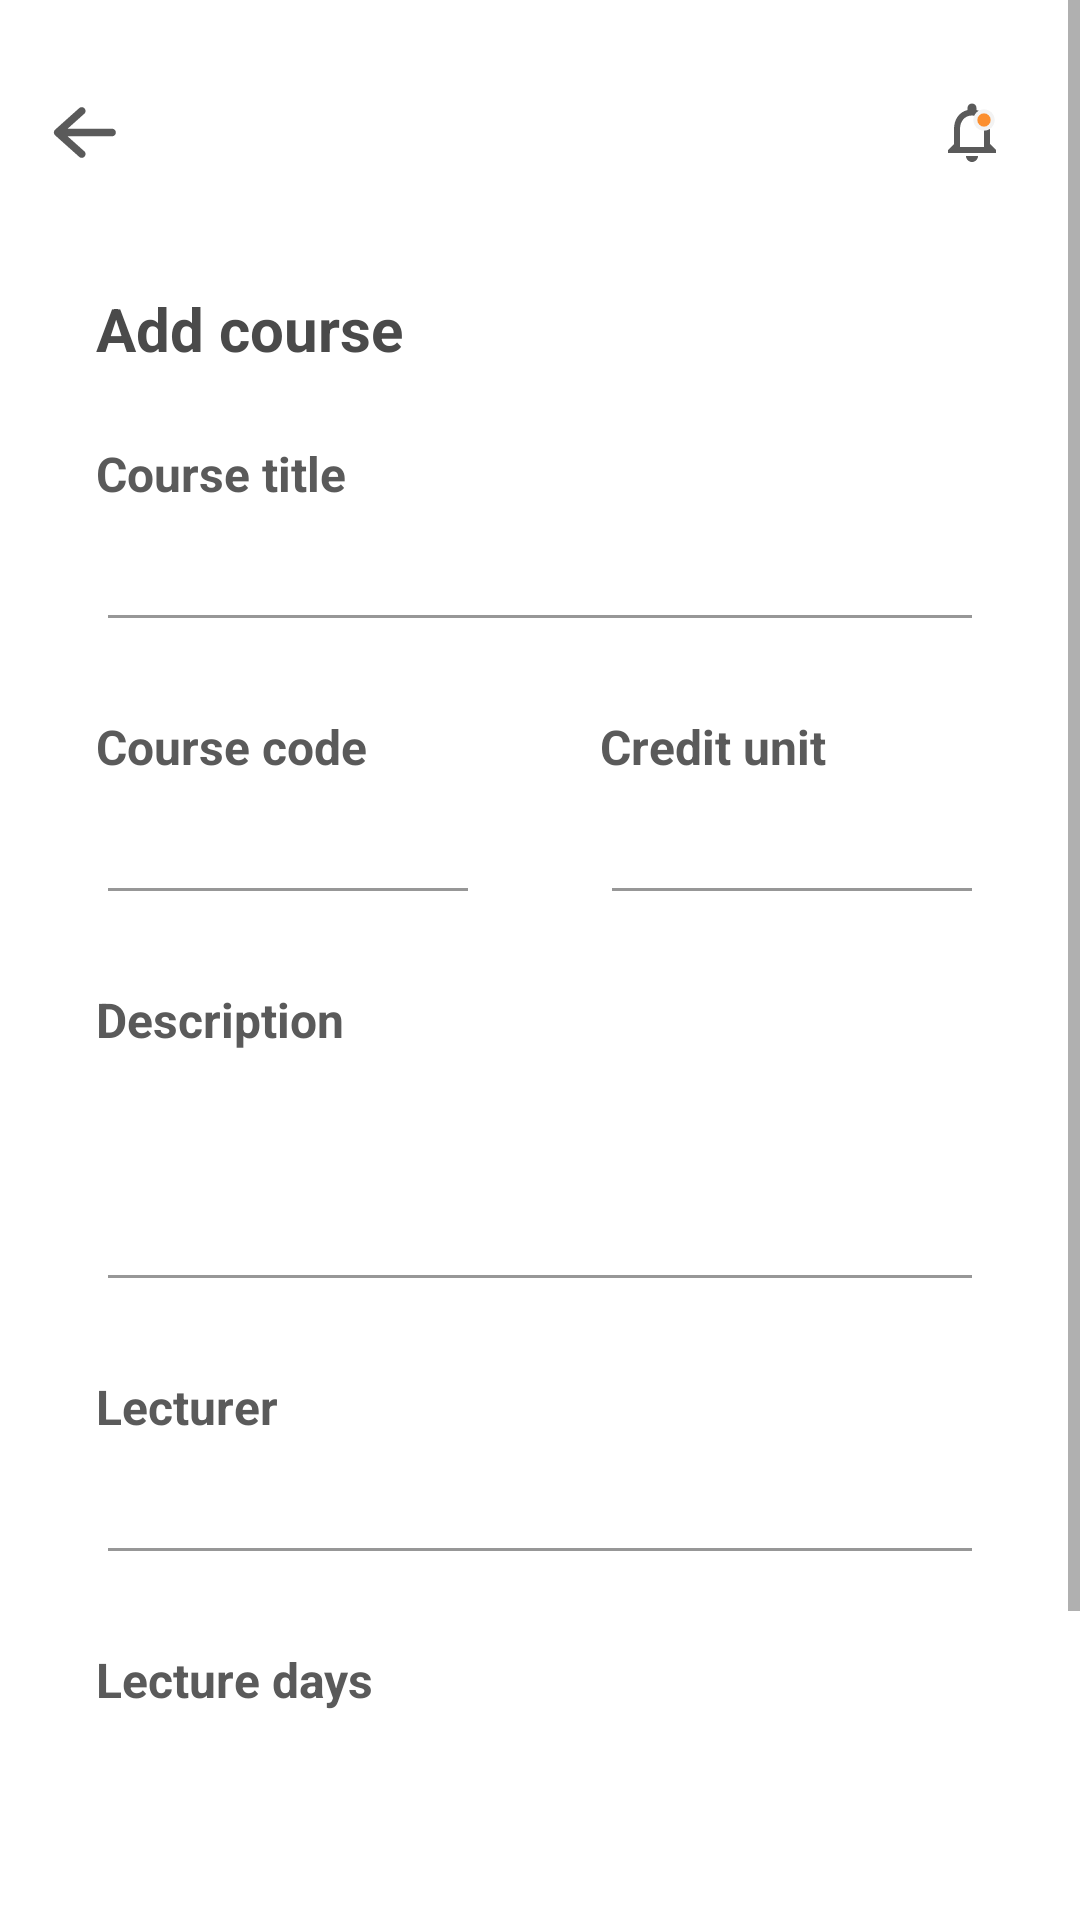

Named icons in this screenshot (1080 × 1920) and their centers, (x=x, y=y):
notifications: (x=972, y=132)
